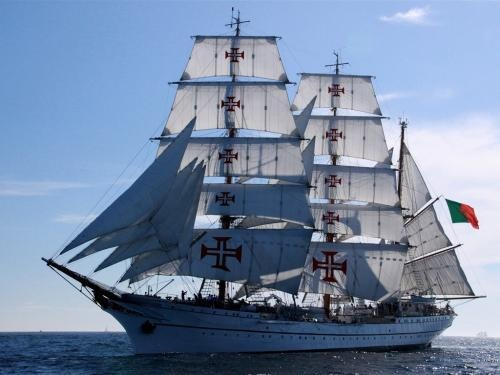fanchuan: (42, 1, 490, 357)
